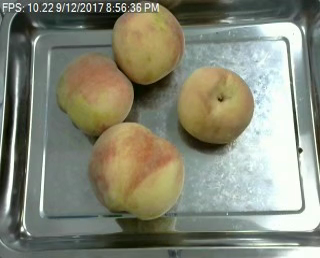Peach: (87, 122, 183, 220), (55, 51, 134, 134), (177, 65, 254, 144), (110, 2, 183, 84)
